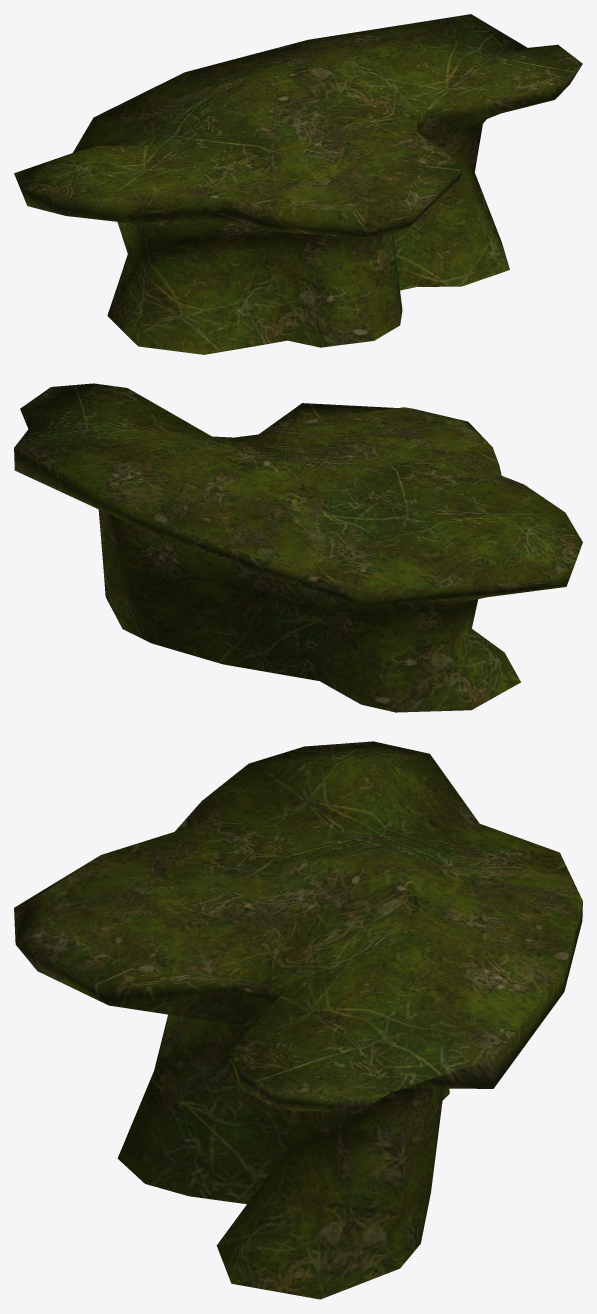
The model's file is environment_stone_shanti_001_d.FBX.
3 renders of one model, top to bottom at view 1: azimuth 30°, elevation 25°; view 2: azimuth 150°, elevation 25°; view 3: azimuth 270°, elevation 25°, orthographic. The views are drawn at different scales.
Visible parts, largest first — view 1: environment_stone_shanti_001_d; view 2: environment_stone_shanti_001_d; view 3: environment_stone_shanti_001_d.
Boxes of the visible parts, box(x1,y1,x2,y2) form: environment_stone_shanti_001_d: box(14, 14, 582, 354); environment_stone_shanti_001_d: box(14, 383, 582, 712); environment_stone_shanti_001_d: box(14, 741, 582, 1299).
Size of the model in its own units: 1184 by 410 by 747.
